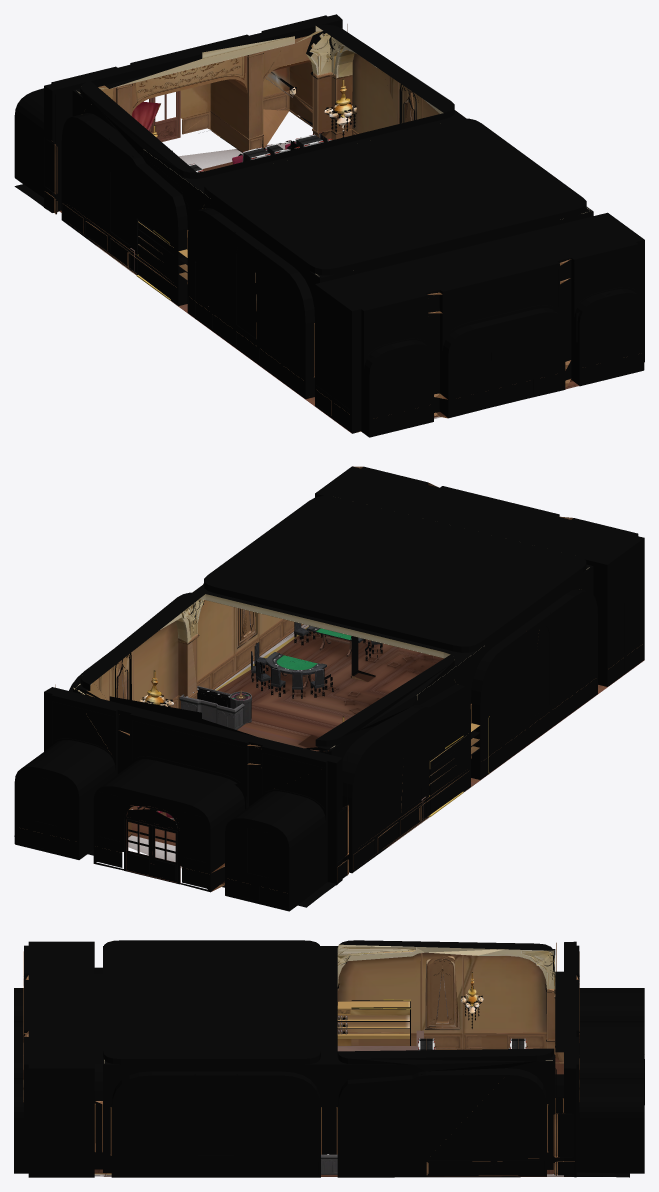
The model's file is casino-edited-uncompressed-v2-2026-05-19.glb.
3 renders of one model, top to bottom at view 1: azimuth 30°, elevation 25°; view 2: azimuth 150°, elevation 25°; view 3: azimuth 270°, elevation 25°, orthographic. The views are drawn at different scales.
Visible parts, largest first — view 1: Material2.001, Material3.004, Material3.006, Material3.007, Material3.005; view 2: Material2.001, Material3.006, Material3.004, Material3.007, Material3.001; view 3: Material2.001, Material3.004, Material3.006, Material3.007, Material3.001.
Part boxes in pixels (x1,y1,x2,y2): Material2.001: [14, 14, 644, 437]; Material3.004: [45, 24, 570, 418]; Material3.006: [59, 33, 591, 432]; Material3.007: [61, 142, 572, 418]; Material3.005: [190, 132, 331, 171]; Material2.001: [14, 466, 644, 911]; Material3.006: [75, 567, 644, 847]; Material3.004: [55, 466, 642, 891]; Material3.007: [128, 624, 443, 885]; Material3.001: [131, 622, 433, 824]; Material2.001: [14, 940, 644, 1177]; Material3.004: [23, 942, 579, 1175]; Material3.006: [94, 946, 563, 1176]; Material3.007: [94, 1057, 571, 1176]; Material3.001: [321, 1154, 337, 1174].
Size of the model in its own units: 485 by 203 by 1017.
Materials: 12 (11 with a texture image).
